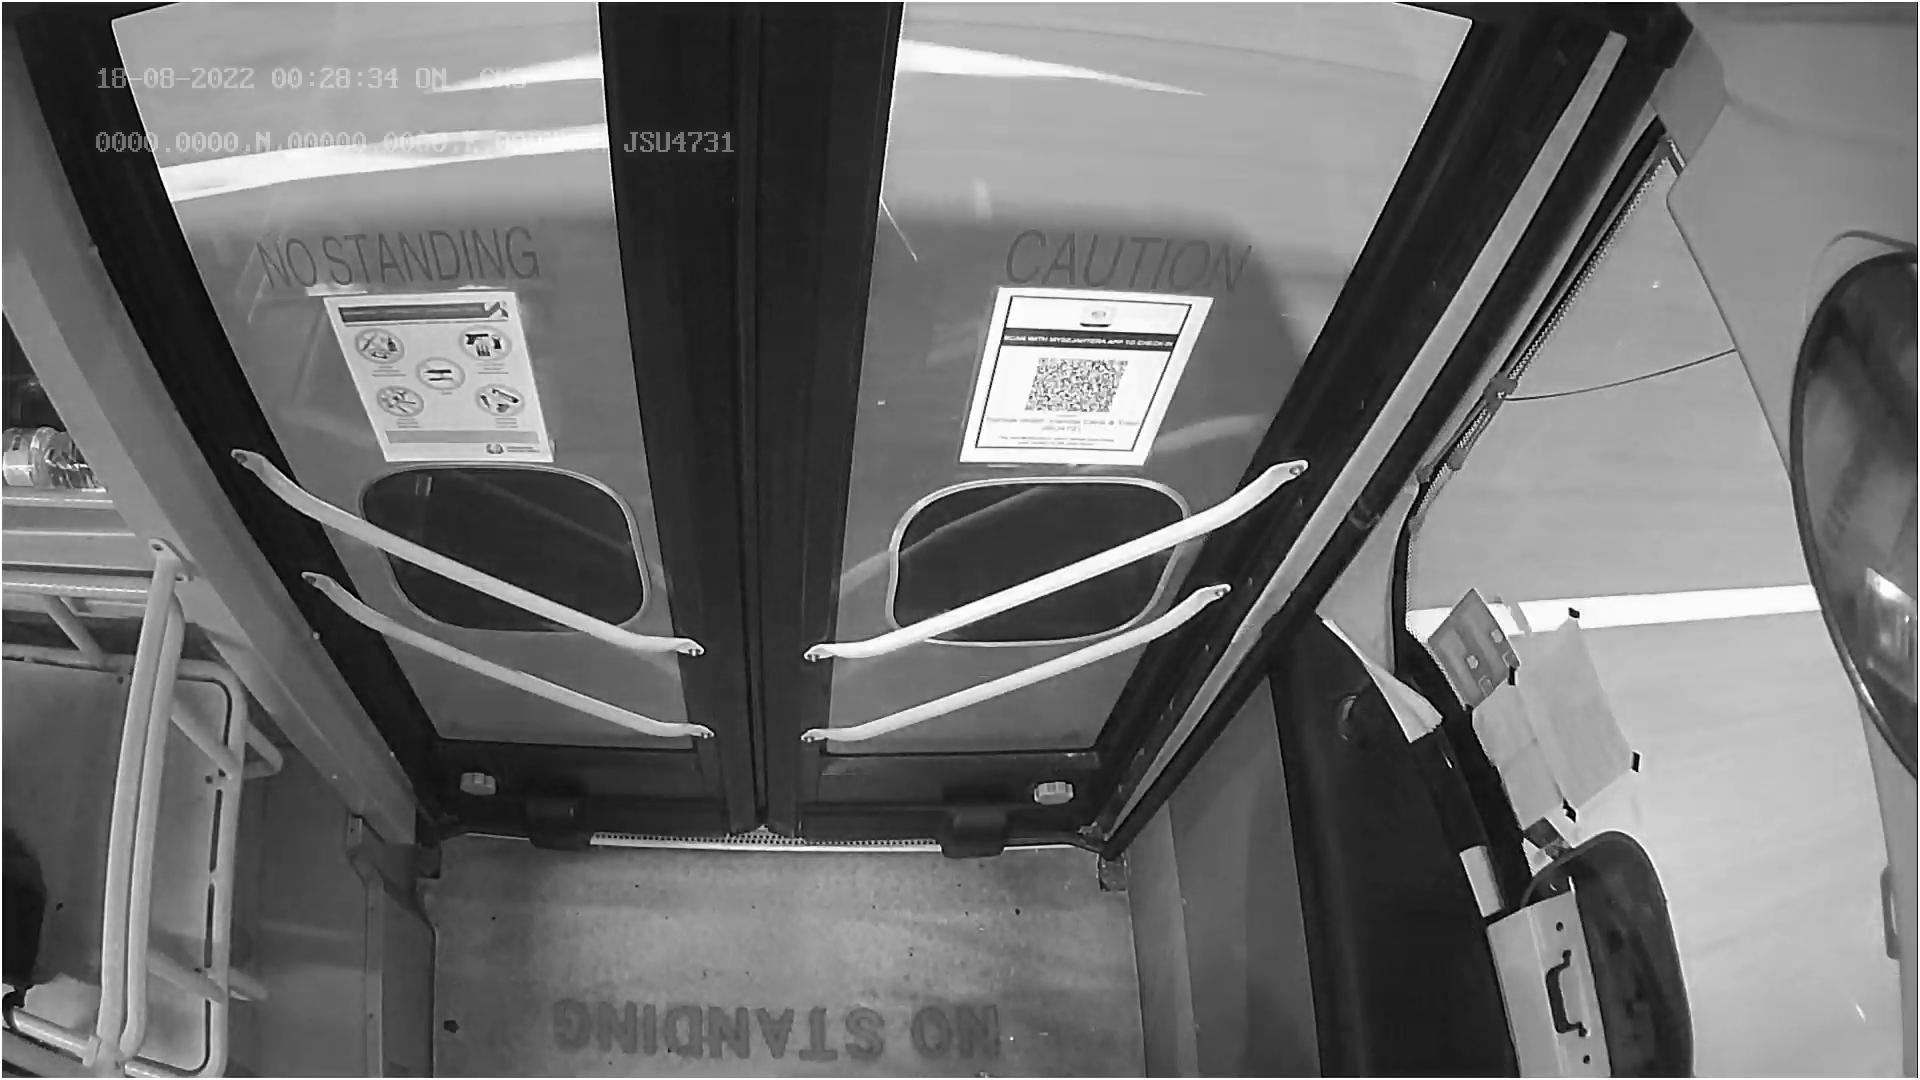close: (128, 0, 1440, 171)
